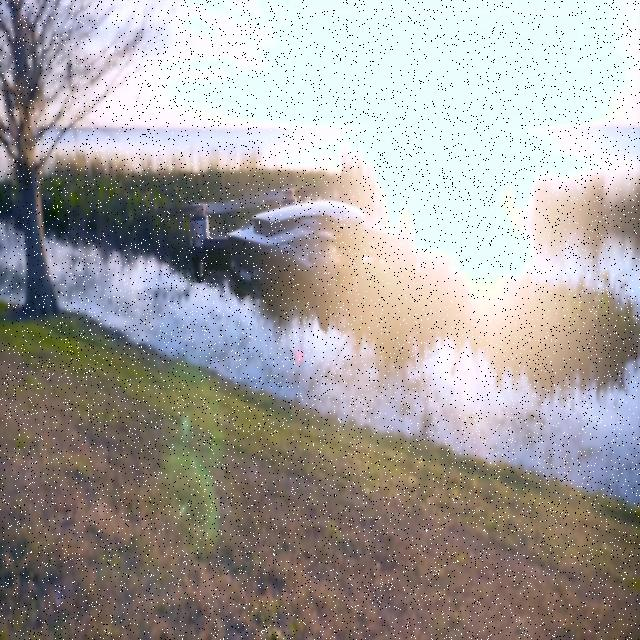UAV: (186, 186, 407, 334)
